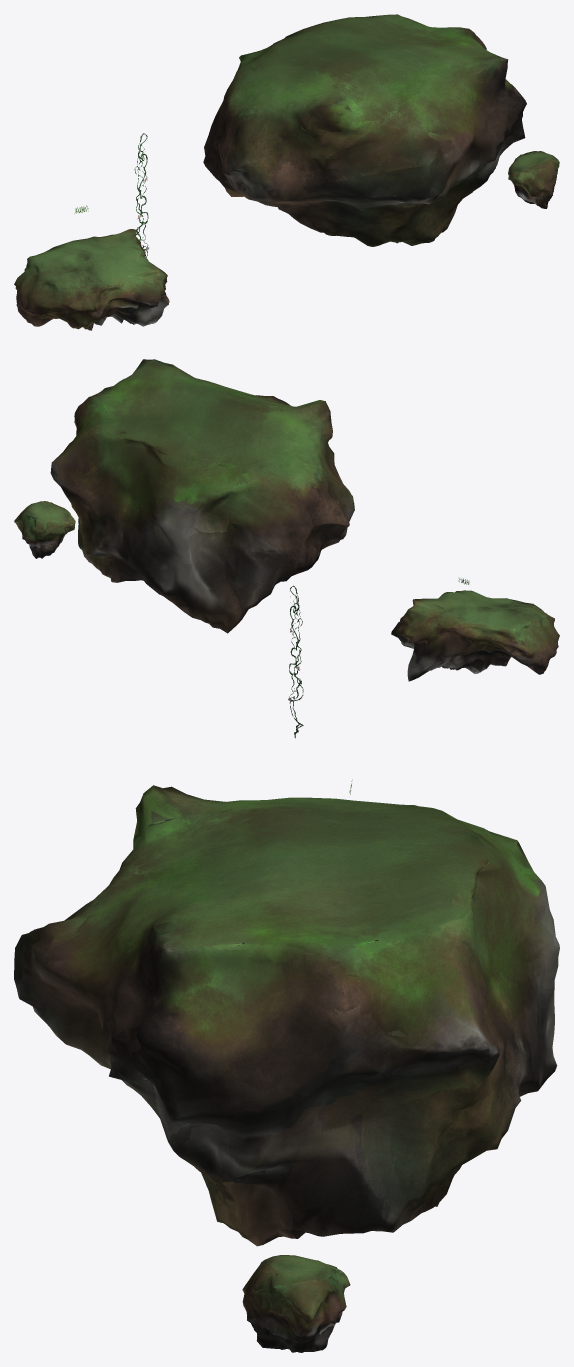
Rendered from islands.fbx.
The picture shows the model from 3 angles, top to bottom: view 1: azimuth 30°, elevation 25°; view 2: azimuth 150°, elevation 25°; view 3: azimuth 270°, elevation 25°; orthographic projection. The views are drawn at different scales.
Parts seen in each view (by area): view 1: Landscape2Low.001, Landscape2Low.002, Landscape2Low, Плоскость.002; view 2: Landscape2Low.001, Landscape2Low.002, Landscape2Low, Плоскость.002; view 3: Landscape2Low.001, Landscape2Low.
Part boxes in pixels (left/top/right/bottom): Landscape2Low.001: left=203, top=14, right=526, bottom=246; Landscape2Low.002: left=14, top=229, right=169, bottom=330; Landscape2Low: left=508, top=151, right=559, bottom=208; Плоскость.002: left=134, top=133, right=149, bottom=257; Landscape2Low.001: left=50, top=359, right=354, bottom=633; Landscape2Low.002: left=391, top=590, right=559, bottom=681; Landscape2Low: left=14, top=501, right=75, bottom=558; Плоскость.002: left=288, top=585, right=303, bottom=738; Landscape2Low.001: left=14, top=785, right=559, bottom=1246; Landscape2Low: left=242, top=1255, right=350, bottom=1352.
Size of the model in its own units: 3428 by 1525 by 1626.
